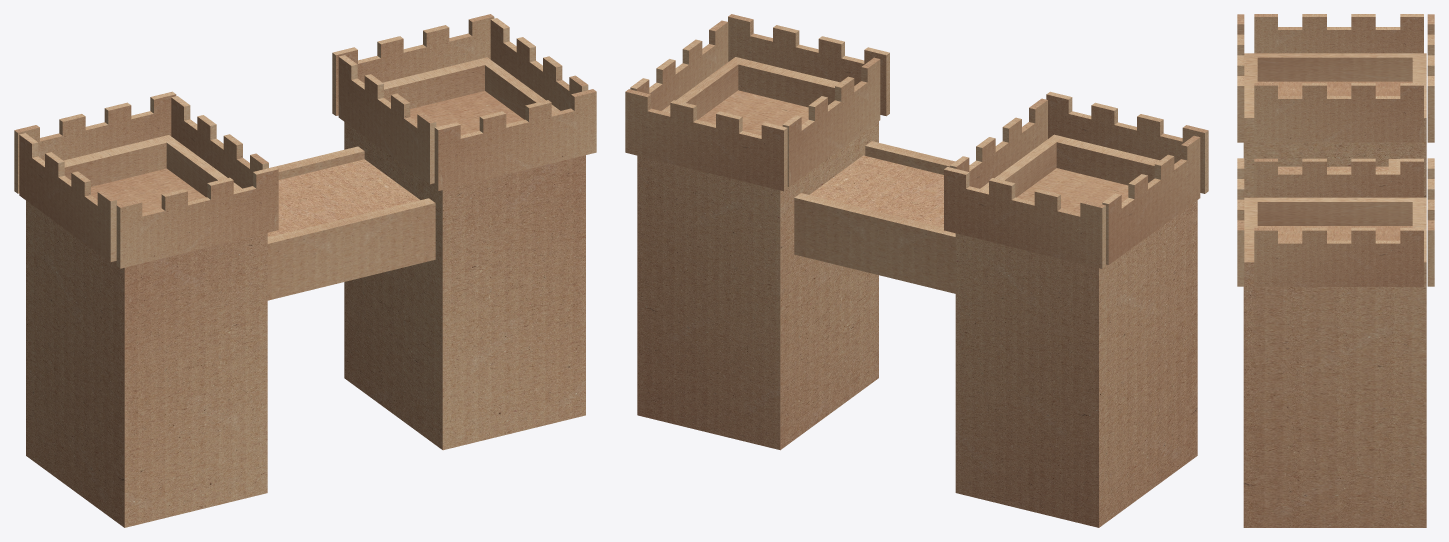
Rendered from Cardboard_castle.fbx.
3 renders of one model, left to right at view 1: azimuth 30°, elevation 25°; view 2: azimuth 150°, elevation 25°; view 3: azimuth 270°, elevation 25°, orthographic. The views are drawn at different scales.
Parts seen in each view (by area): view 1: Cardboard_castle; view 2: Cardboard_castle; view 3: Cardboard_castle.
Part boxes in pixels (box(x1,y1,x2,y2)): Cardboard_castle: box(14, 14, 596, 527); Cardboard_castle: box(625, 14, 1208, 527); Cardboard_castle: box(1237, 14, 1434, 527).
Size of the model in its own units: 14.94 by 9.69 by 5.74.
